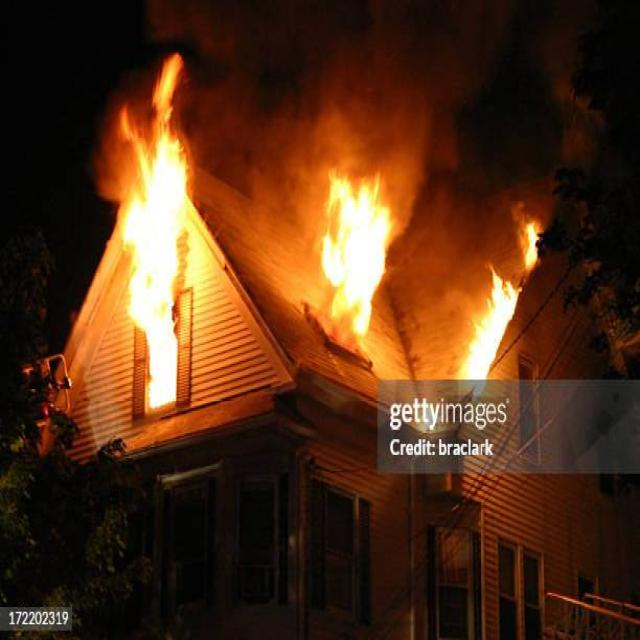fire: (124, 53, 186, 407), (321, 171, 392, 336), (457, 262, 518, 402)
